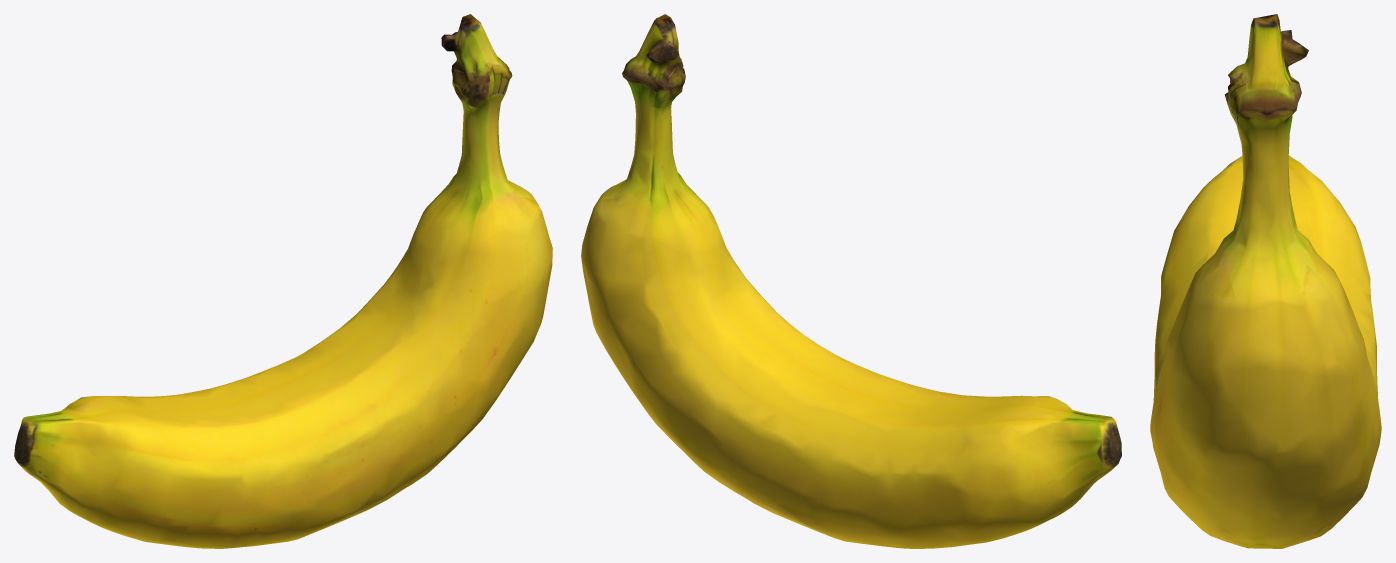
File: BananTOSteal.glb
The picture shows the model from 3 angles, left to right: view 1: azimuth 30°, elevation 25°; view 2: azimuth 150°, elevation 25°; view 3: azimuth 270°, elevation 25°; orthographic projection. The views are drawn at different scales.
Parts seen in each view (by area): view 1: Mesh1.0; view 2: Mesh1.0; view 3: Mesh1.0.
Part boxes in pixels (left/top/right/bottom): Mesh1.0: left=14, top=14, right=552, bottom=548; Mesh1.0: left=581, top=14, right=1121, bottom=548; Mesh1.0: left=1150, top=14, right=1381, bottom=548.
Size of the model in its own units: 11.78 by 10 by 3.39.
Materials: 1 (1 with a texture image).
